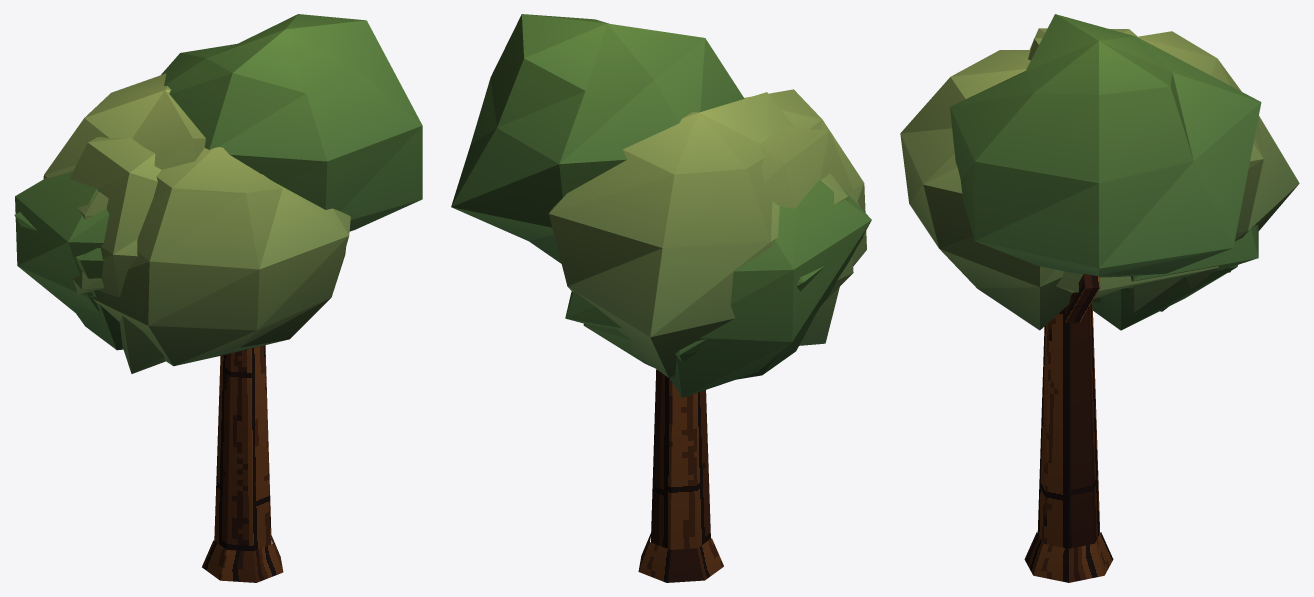
The model's file is apple_2_lowpoly.glb.
3 views of the same model, side by side, from view 1: azimuth 30°, elevation 25°; view 2: azimuth 150°, elevation 25°; view 3: azimuth 270°, elevation 25° (orthographic). The views are drawn at different scales.
Parts seen in each view (by area): view 1: apple_2_lowpoly; view 2: apple_2_lowpoly; view 3: apple_2_lowpoly.
Part boxes in pixels (left/top/right/bottom): apple_2_lowpoly: left=14, top=14, right=422, bottom=582; apple_2_lowpoly: left=451, top=14, right=871, bottom=582; apple_2_lowpoly: left=900, top=14, right=1299, bottom=582.
Bounding box in the file's own units: 3.58 × 4.81 × 3.15.
2 materials, 1 textured.
